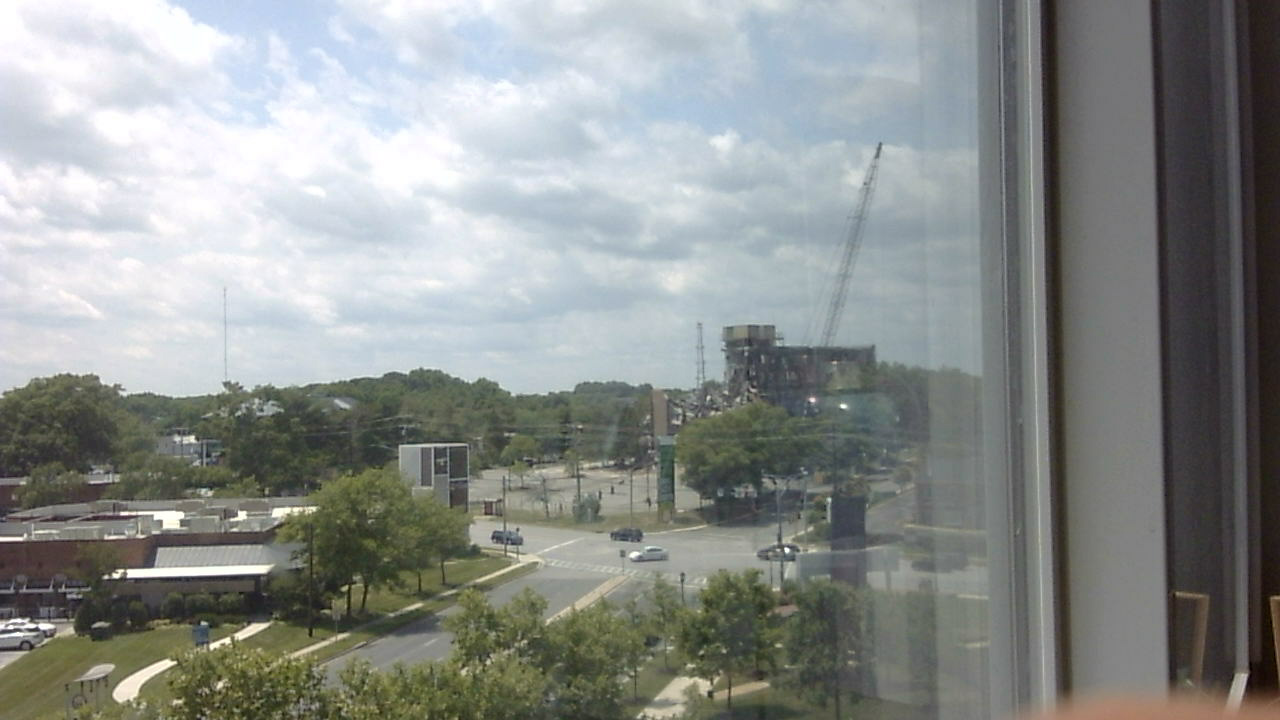Car: (493, 525, 531, 559), (611, 528, 648, 546), (634, 552, 671, 566)
